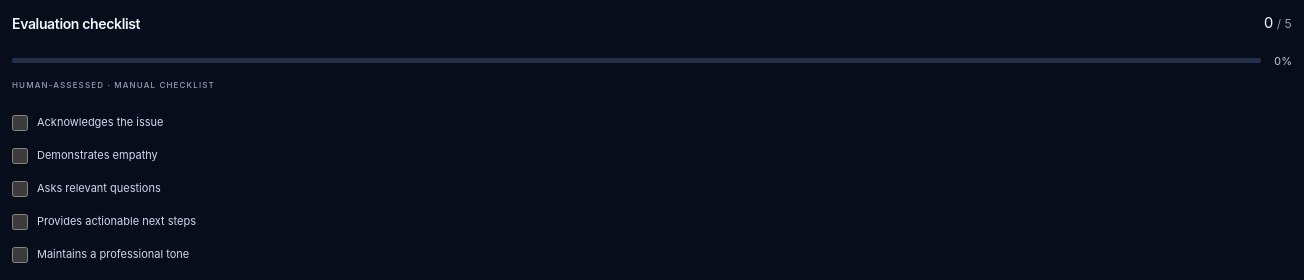
exposes labelled checkboxes and updates the manual completion score
Expected: the progress indicator holds "0", [12, 58, 1261, 63]
Click the checkbox labelled "Acknowledges the issue" at (20, 123), box [12, 115, 28, 131]
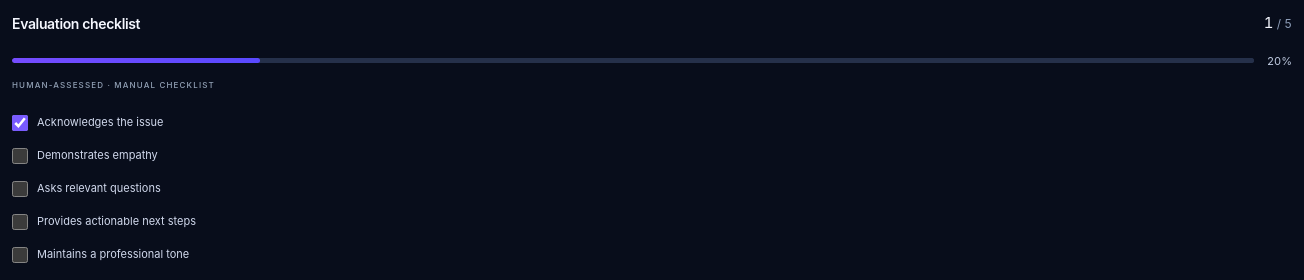
Expected: the progress indicator holds "20", [12, 58, 1254, 63]
Expected: the text "20%" is shown, [1267, 52, 1292, 69]
